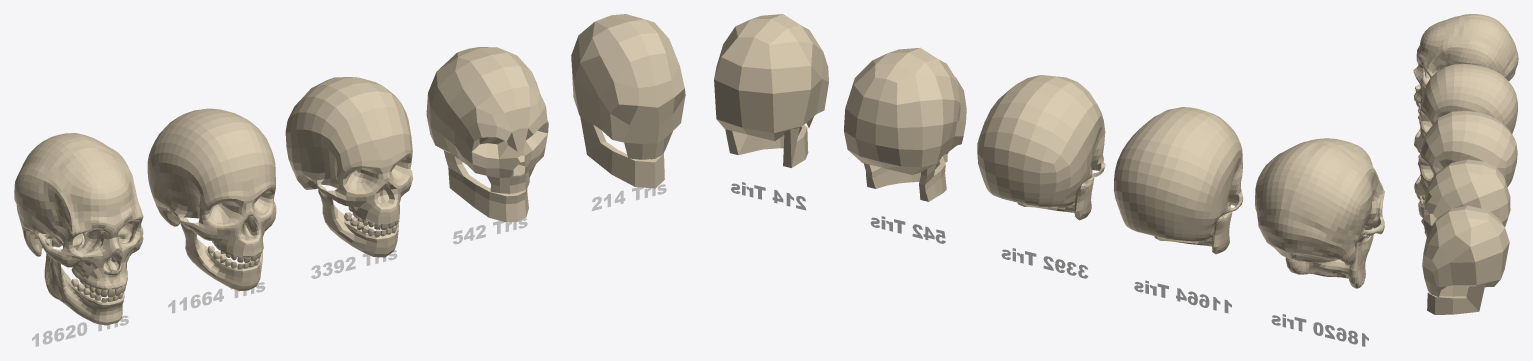
3 renders of one model, left to right at view 1: azimuth 30°, elevation 25°; view 2: azimuth 150°, elevation 25°; view 3: azimuth 270°, elevation 25°, orthographic. The views are drawn at different scales.
Parts seen in each view (by area): view 1: Free_Pack_-_Human_Skullobjcleanermaterialmergergles; view 2: Free_Pack_-_Human_Skullobjcleanermaterialmergergles; view 3: Free_Pack_-_Human_Skullobjcleanermaterialmergergles.
Part boxes in pixels (bbox=[...]): Free_Pack_-_Human_Skullobjcleanermaterialmergergles: bbox=[14, 14, 685, 346]; Free_Pack_-_Human_Skullobjcleanermaterialmergergles: bbox=[714, 14, 1384, 346]; Free_Pack_-_Human_Skullobjcleanermaterialmergergles: bbox=[1413, 14, 1518, 314].
Bounding box in the file's own units: 0.7006 × 0.2 × 0.1433.
